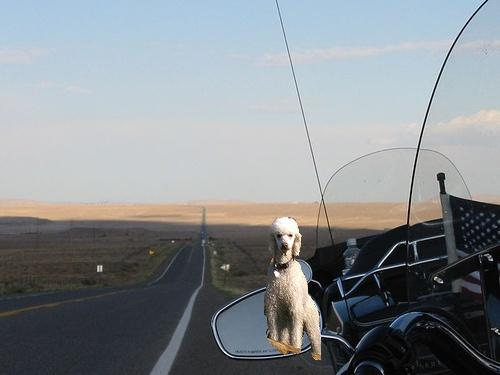tampered: (265, 218, 321, 360)
